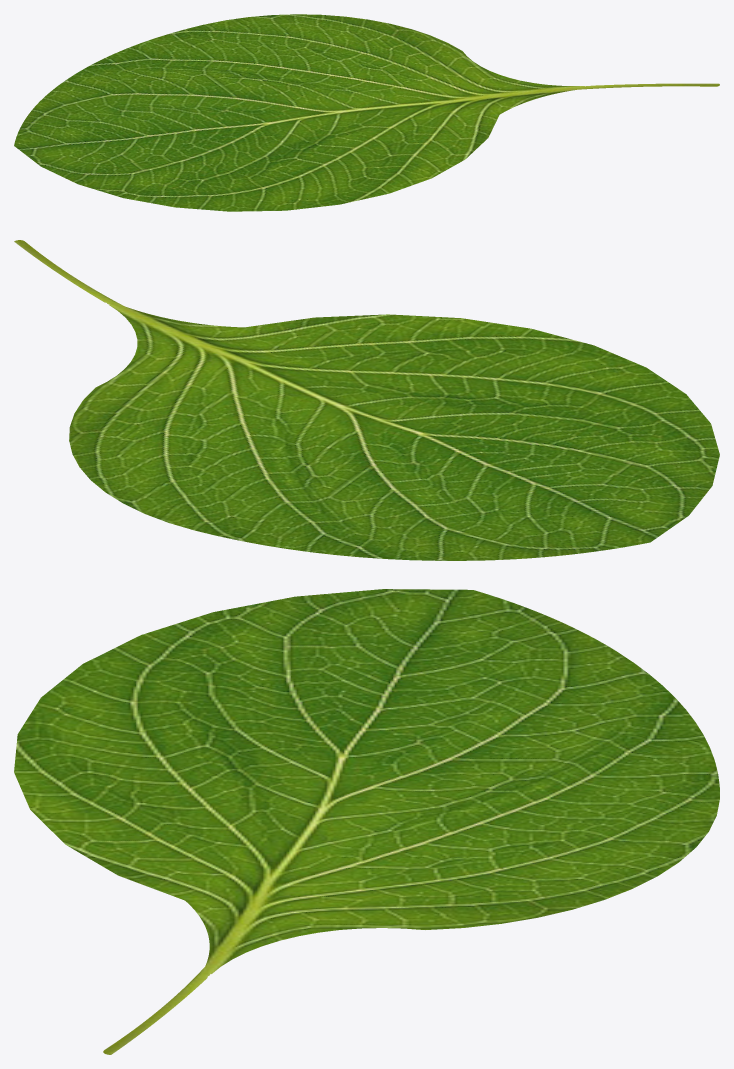
The picture shows the model from 3 angles, top to bottom: view 1: azimuth 30°, elevation 25°; view 2: azimuth 150°, elevation 25°; view 3: azimuth 270°, elevation 25°; orthographic projection. The views are drawn at different scales.
Visible parts, largest first — view 1: SketchUp; view 2: SketchUp; view 3: SketchUp.
Part boxes in pixels (<box>): SketchUp: <box>14,14,719,211</box>; SketchUp: <box>14,240,719,560</box>; SketchUp: <box>14,589,719,1054</box>.
Bounding box in the file's own units: 38.13 × 24.42 × 0.
Materials: 1 (1 with a texture image).
